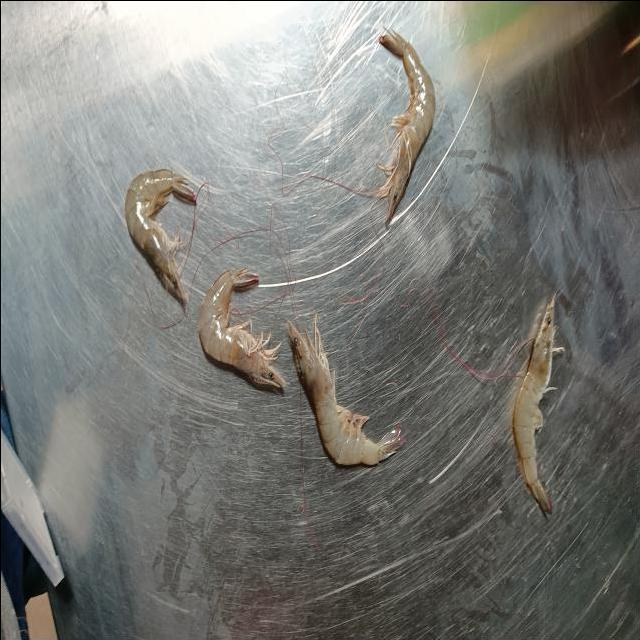shrimp: (286, 314, 404, 465), (512, 297, 564, 514), (378, 33, 435, 226), (199, 268, 285, 387), (125, 168, 196, 301)
